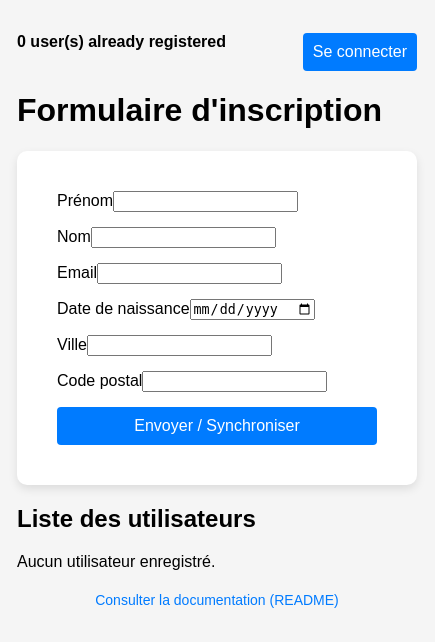
Test: App component › saves valid registration data via API and shows success toaster
The image size is (435, 642).
Type "Alice" into the field with test id "firstName". click: (206, 201)
box: [113,191,298,212]
Type "Dupont" into the field with test id "lastName". click: (183, 237)
box: [91,227,276,248]
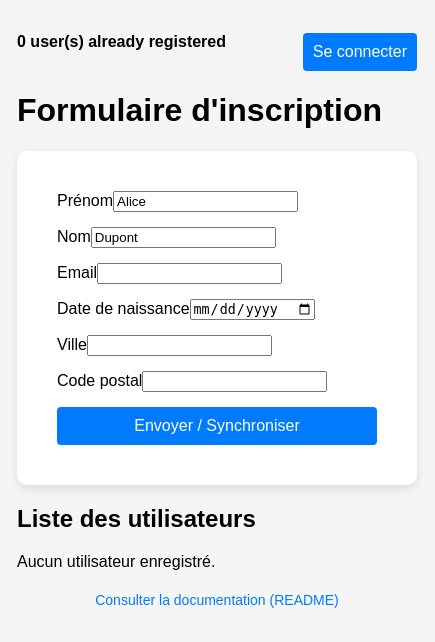
Type "alice.dupont@example.com" into the field with test id "email". click: (190, 273)
box: [97,263,282,284]
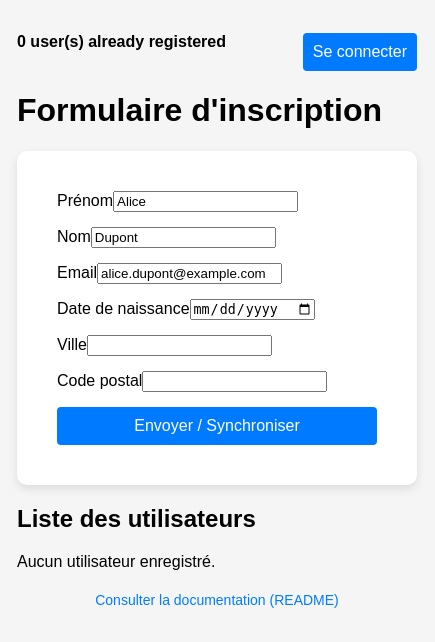
Type "1990-05-20" into the date field with test id "birthdate". click: (252, 310)
box: [190,299,315,320]
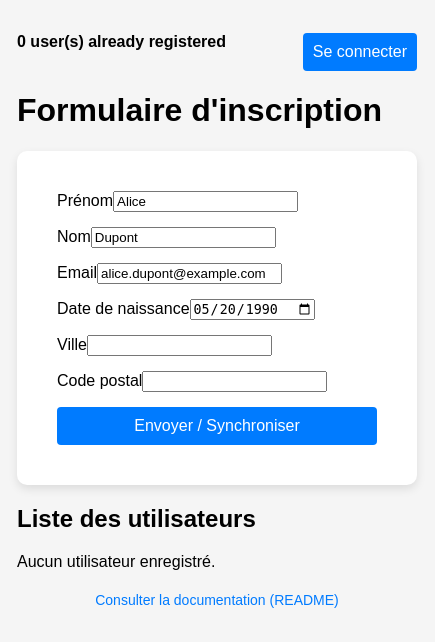
Type "Paris" into the field with test id "city". click: (180, 346)
box: [87,335,272,356]
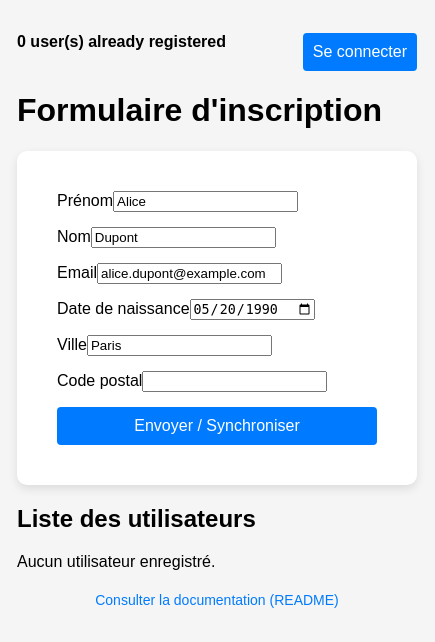
Type "75001" into the field with test id "zipcode". click: (235, 382)
box: [142,371,327,392]
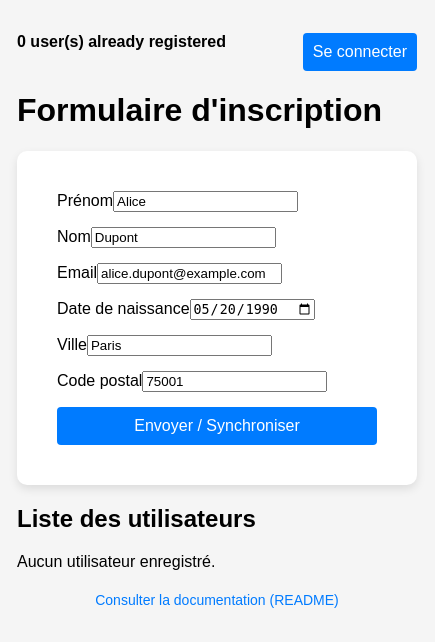
Click the button "Envoyer / Synchroniser". click: (217, 426)
box: [57,407,377,445]
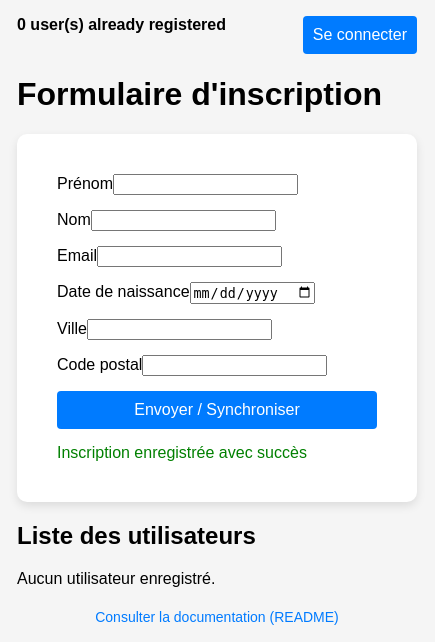
Expected: the message "Inscription enregistrée avec succès" is shown, [57,444,307,461]
